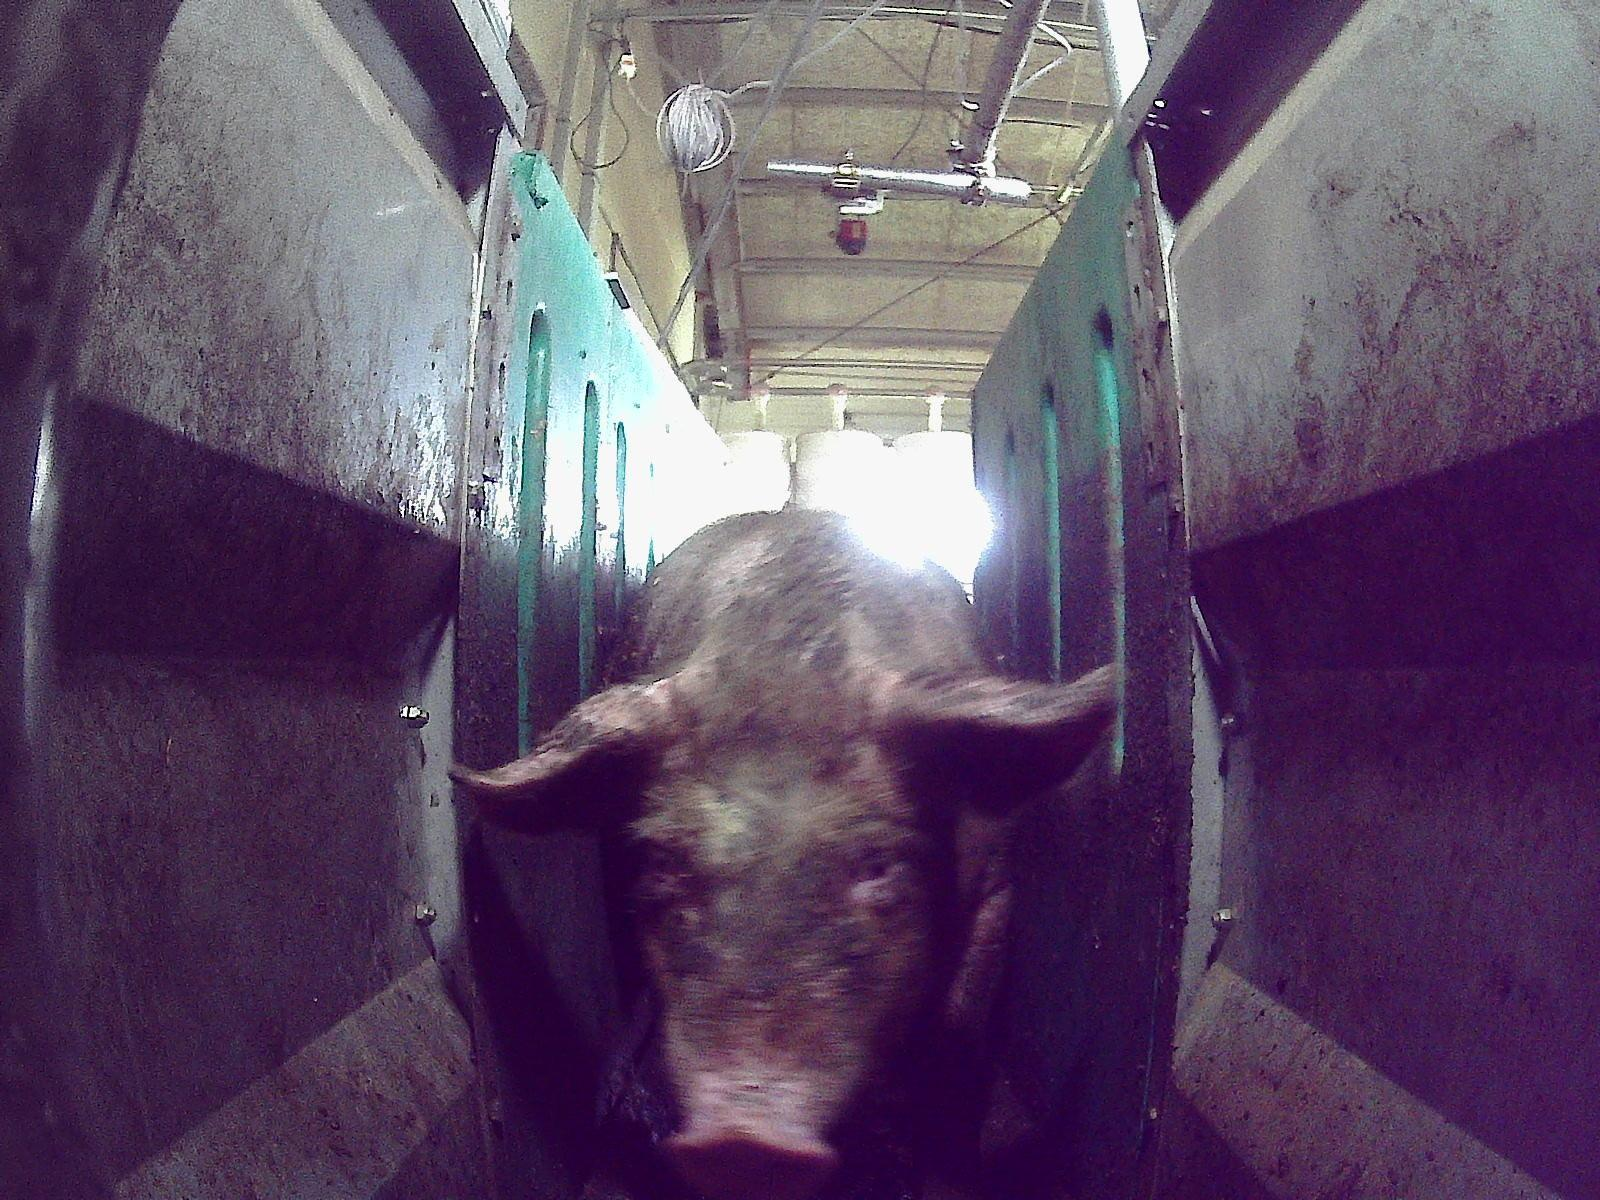Face: (616, 695, 934, 1199)
